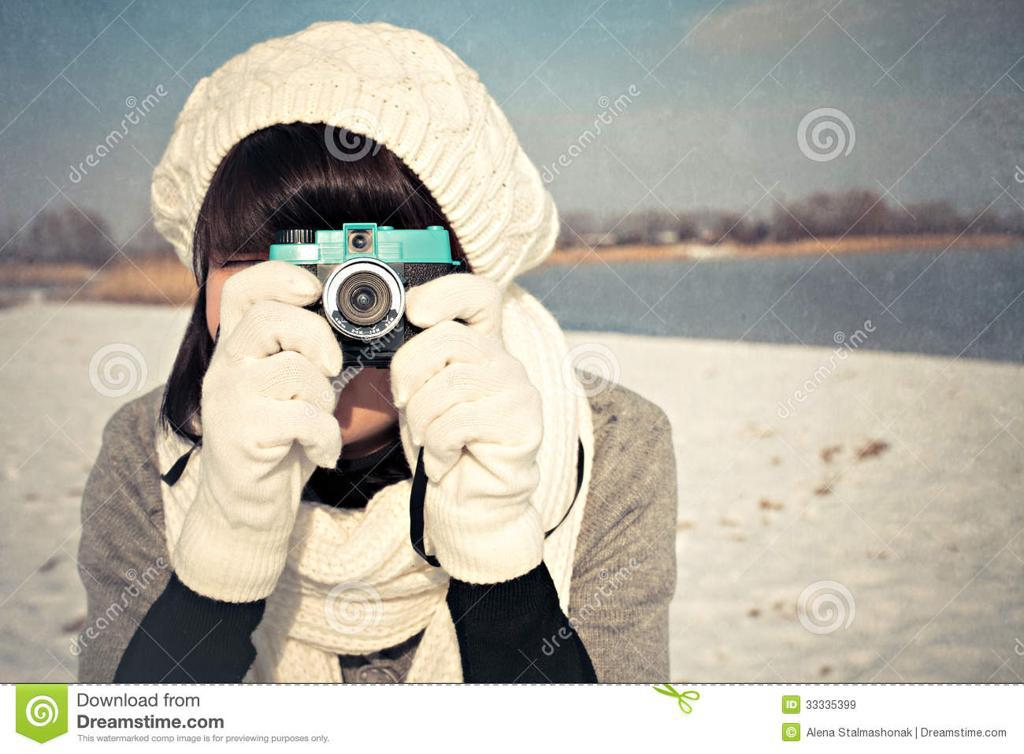face: (191, 153, 445, 453)
